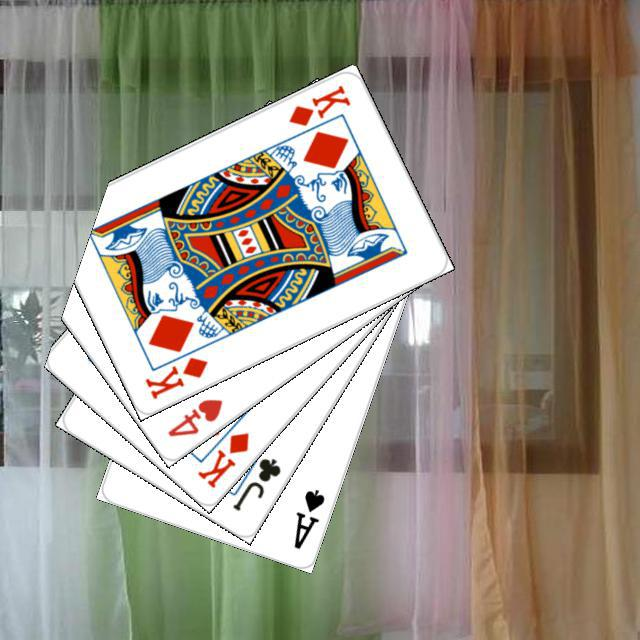4h: (162, 393, 225, 439)
As: (288, 484, 327, 551)
Jc: (227, 453, 283, 513)
Kd: (192, 427, 251, 490), (139, 351, 210, 401), (283, 80, 352, 128)
